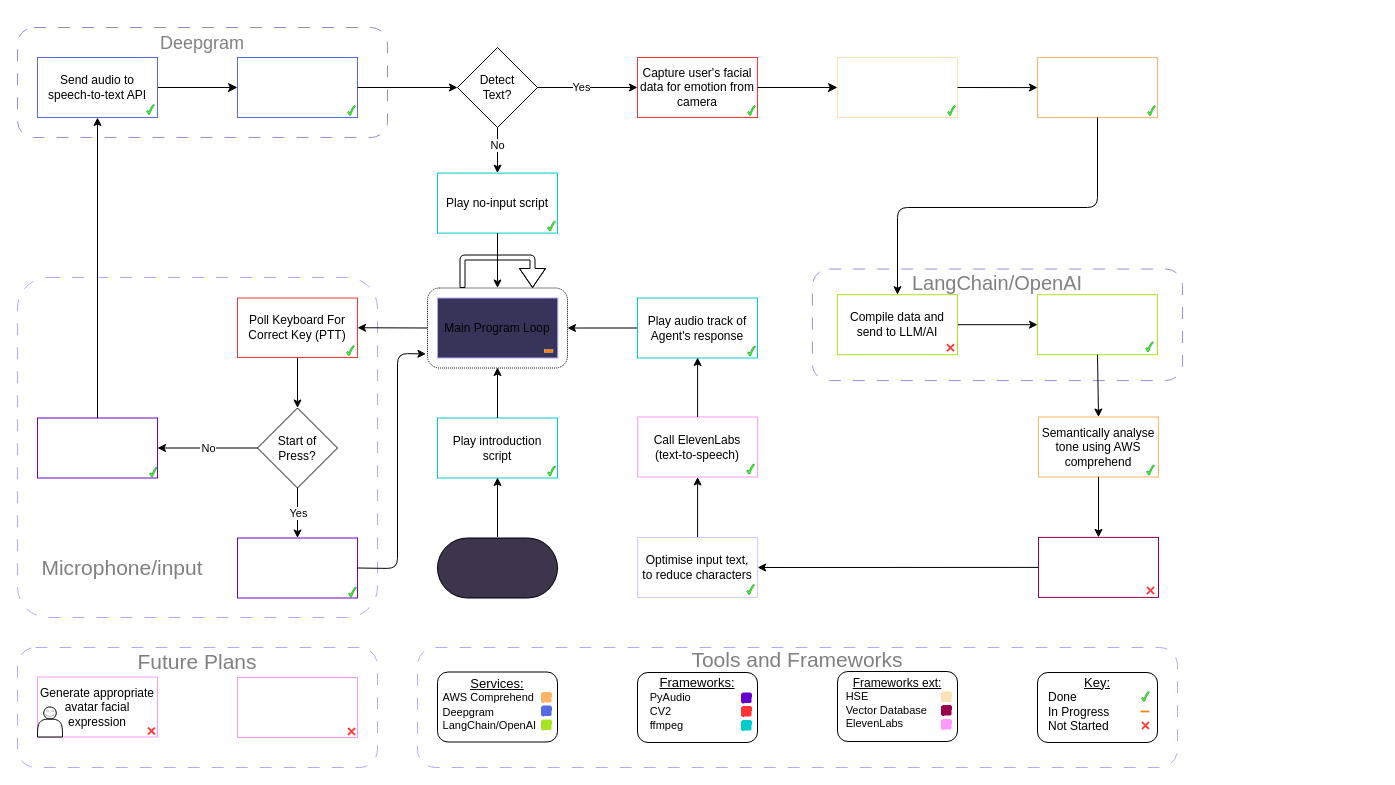
The diagram is 1395 pixels wide and 785 high, and some of its shapes have lost their labels. Each missing label, with the box of its shape:
[End of press] End capturing of Mic data: (36, 417, 158, 478)
Face-ID type login system: (236, 676, 358, 738)
Gauge user's facial expression/emotion: (836, 56, 958, 118)
Receive Agent response: (1036, 294, 1158, 355)
Receive transcribed audio as text: (236, 56, 358, 118)
Run sentiment analysis on text using AWS comprehend: (1036, 57, 1158, 118)
START: (436, 537, 558, 598)
Start capturing microphone data: (236, 537, 358, 598)
Store response and metadata: (1038, 536, 1158, 597)
